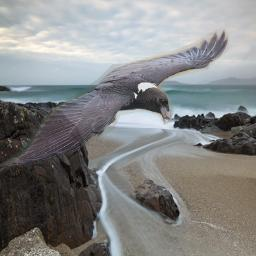Crow: (3, 29, 229, 170)
